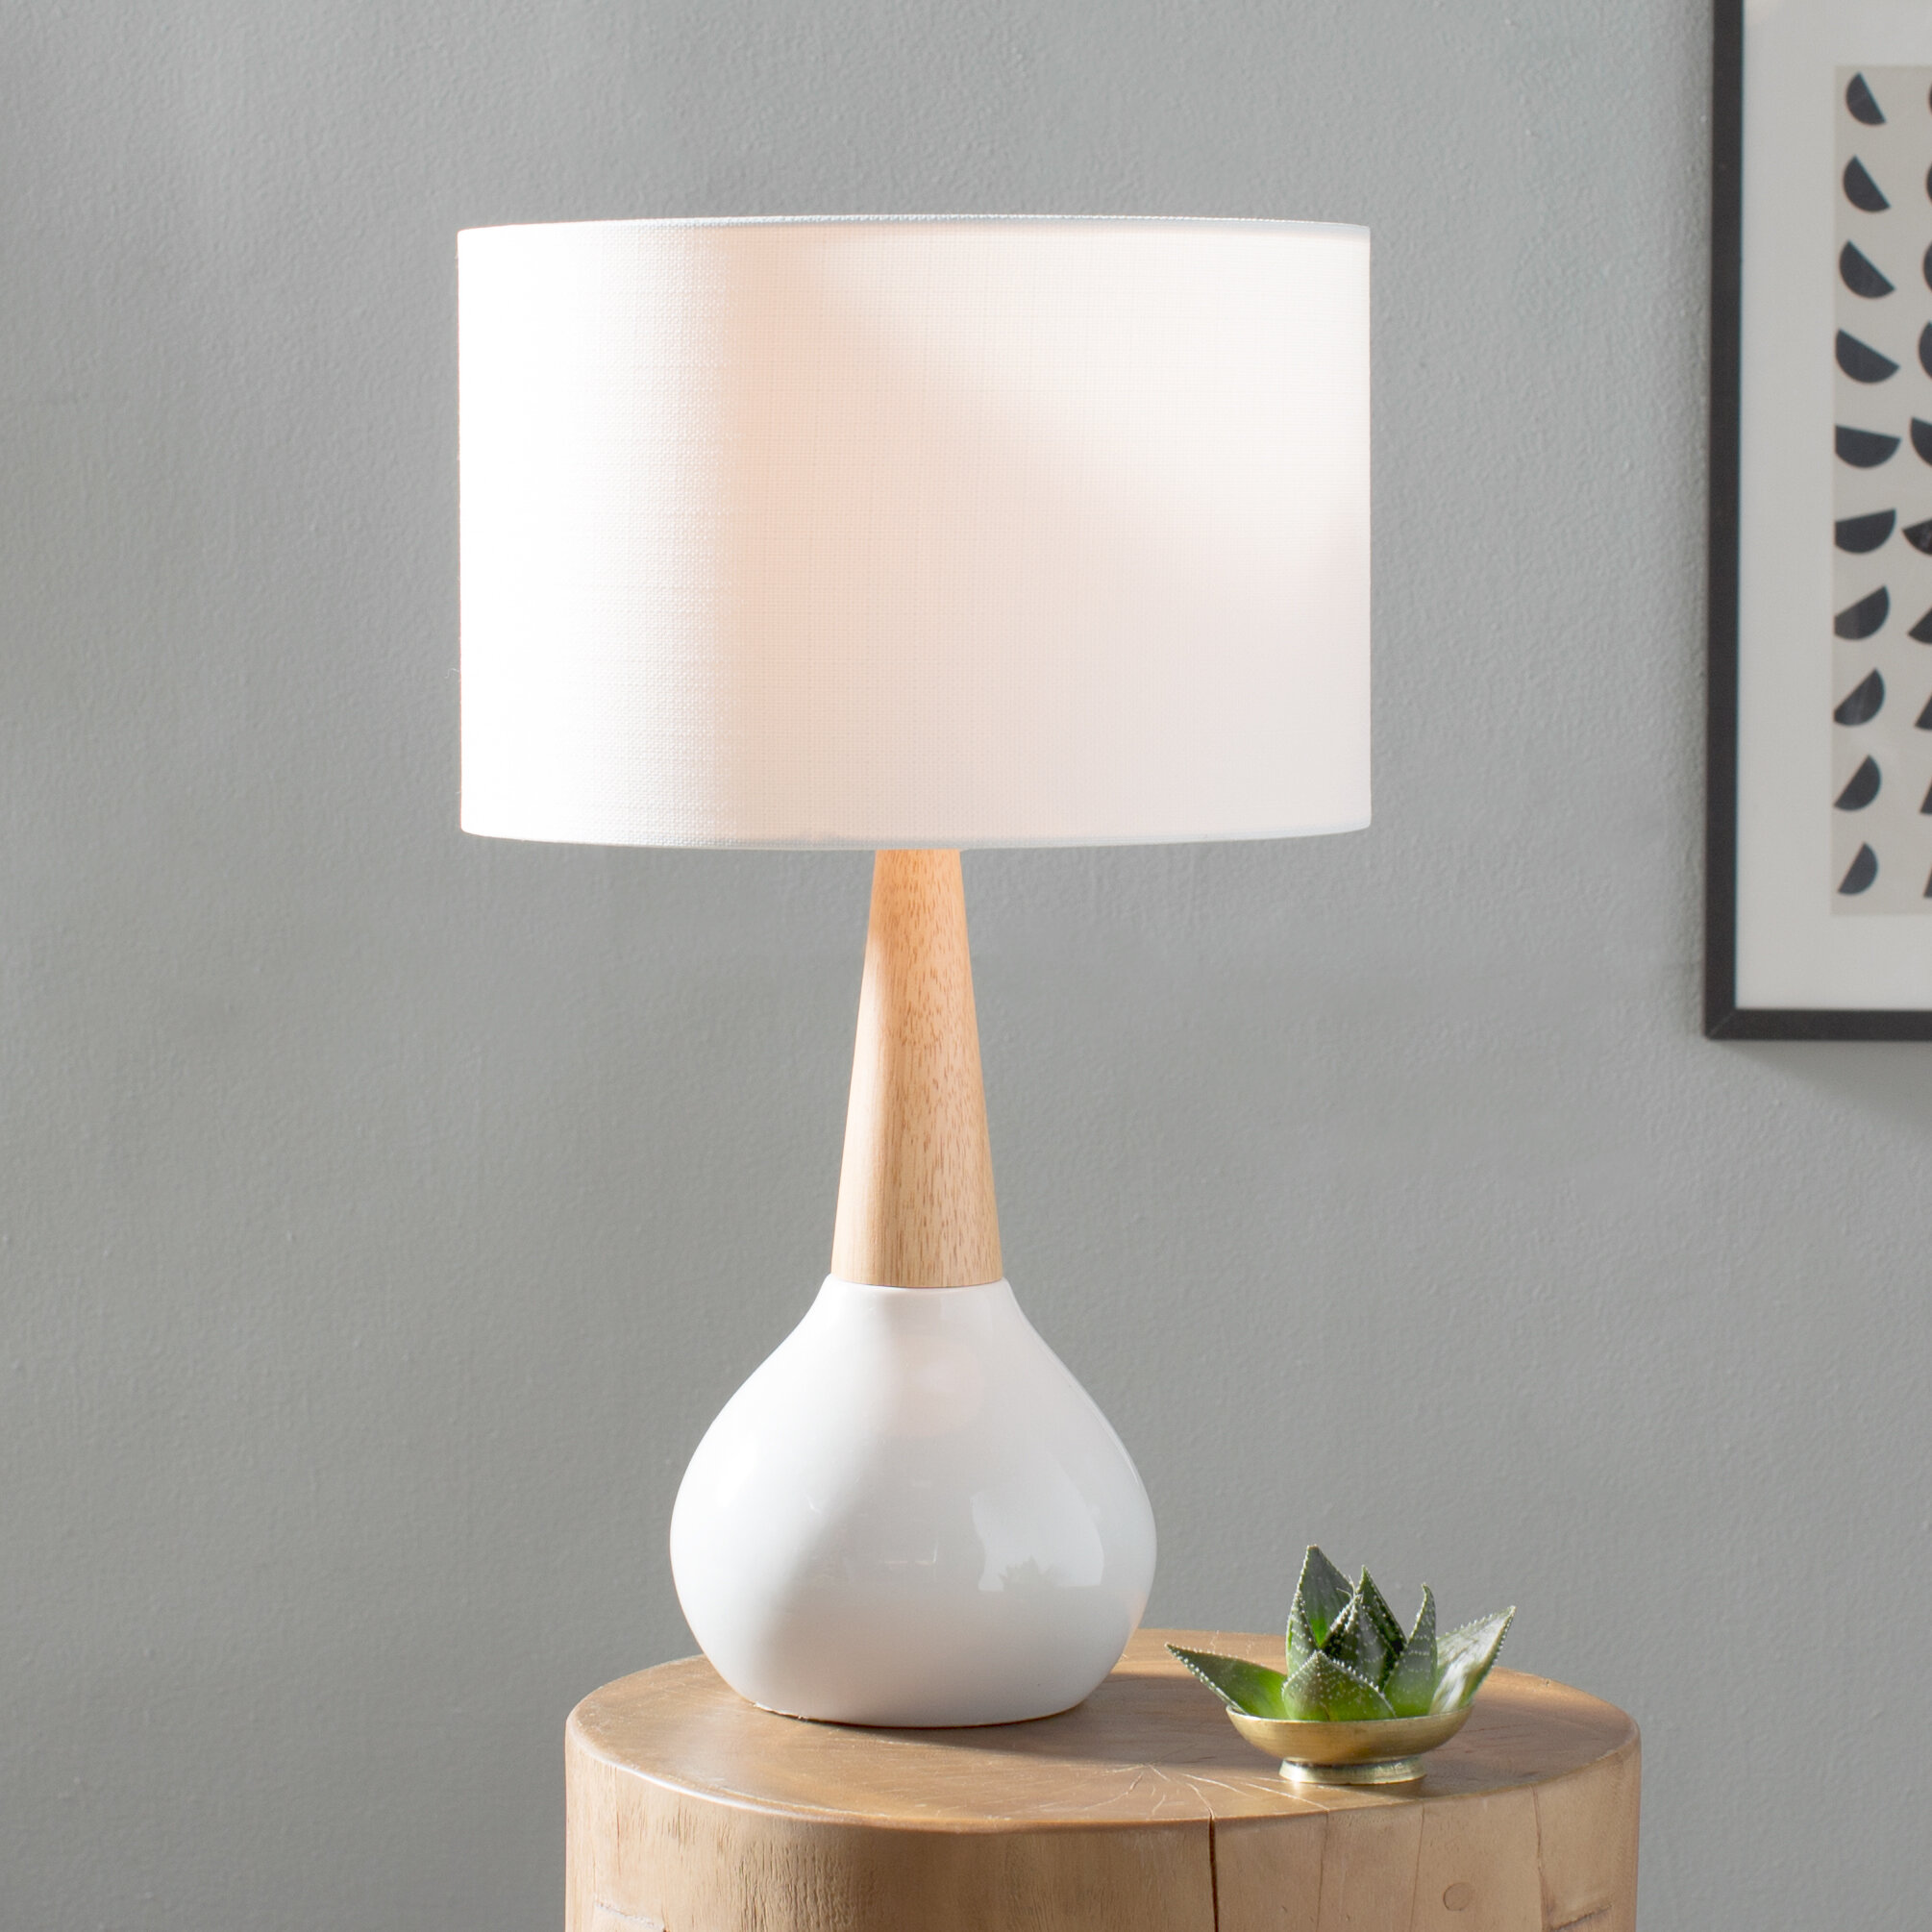lampu: (451, 218, 1369, 1725)
